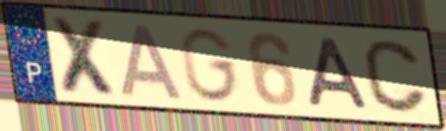6: (244, 29, 298, 108)
A: (119, 22, 188, 102), (306, 35, 373, 112)
C: (360, 37, 430, 116)
G: (178, 25, 242, 104)
X: (47, 14, 124, 101)
